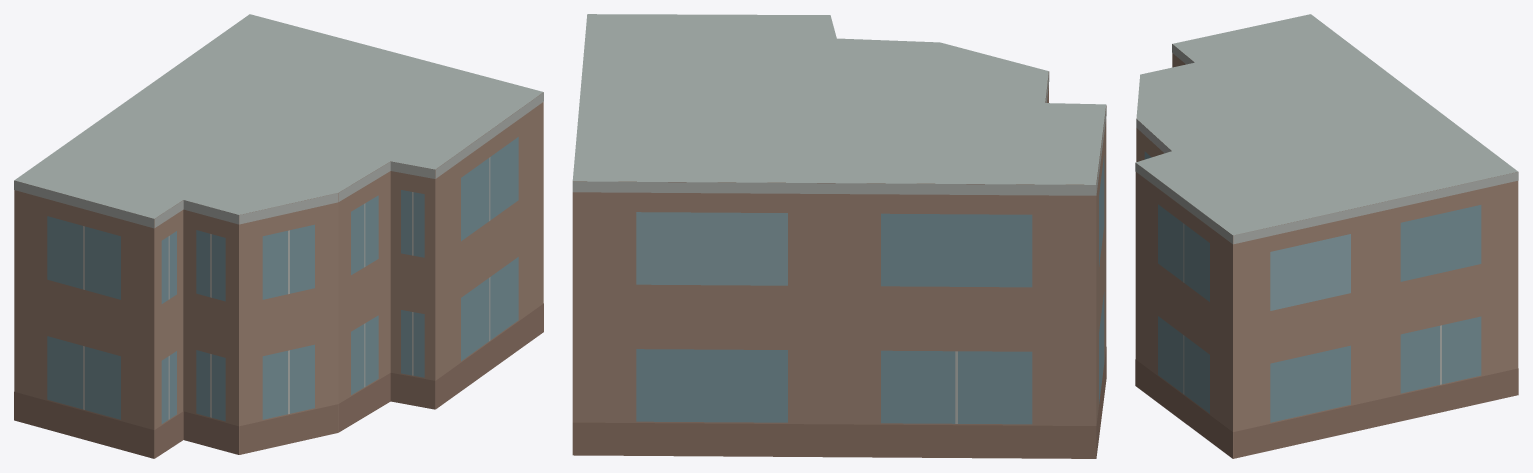
Rendered from survey-upis-32575429.glb.
3 renders of one model, left to right at view 1: azimuth 30°, elevation 25°; view 2: azimuth 150°, elevation 25°; view 3: azimuth 270°, elevation 25°, orthographic. The views are drawn at different scales.
Parts seen in each view (by area): view 1: survey-upis-32575429.tmp; view 2: survey-upis-32575429.tmp; view 3: survey-upis-32575429.tmp.
Part boxes in pixels (bbox=[...]): survey-upis-32575429.tmp: bbox=[14, 14, 543, 458]; survey-upis-32575429.tmp: bbox=[572, 14, 1106, 458]; survey-upis-32575429.tmp: bbox=[1135, 14, 1518, 458].
Size of the model in its own units: 12.98 by 6.1 by 9.49.
